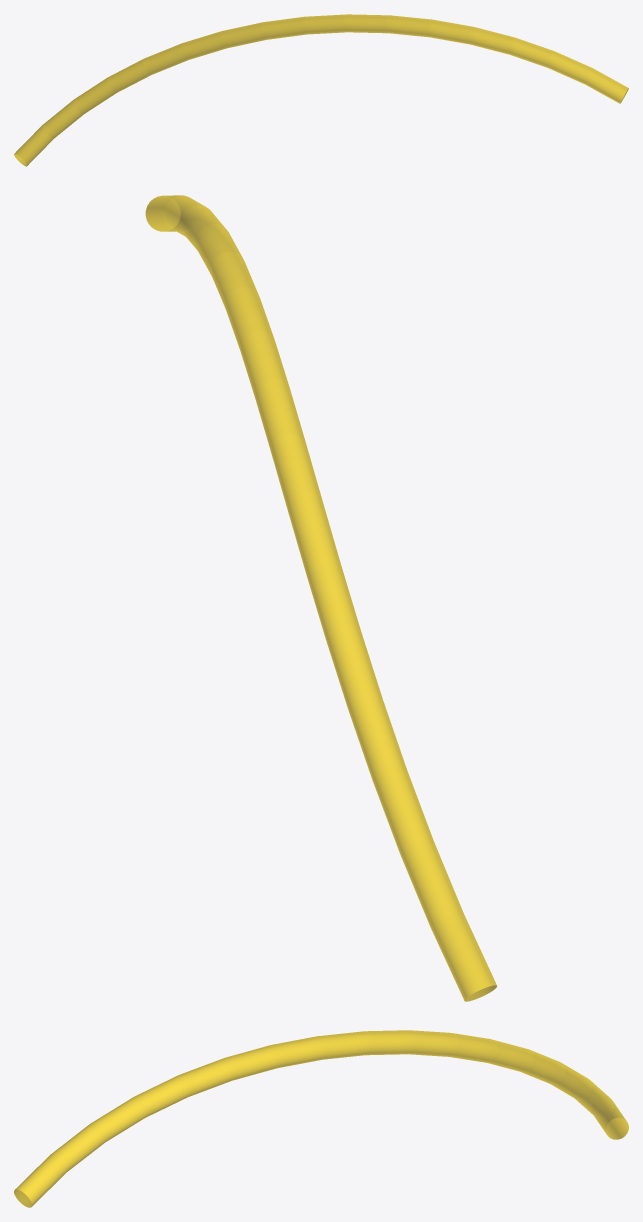
File: Event_40932208_track_32.fbx
3 views of the same model, one above another, from view 1: azimuth 30°, elevation 25°; view 2: azimuth 150°, elevation 25°; view 3: azimuth 270°, elevation 25° (orthographic). The views are drawn at different scales.
Parts seen in each view (by area): view 1: Model; view 2: Model; view 3: Model.
Boxes of the visible parts, x1,y1,x2,y2 form: Model: (14,14,628,166); Model: (145,195,497,1001); Model: (14,1030,628,1207).
Size of the model in its own units: 1.01 by 0.4583 by 1.02.
